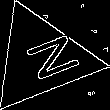N_SW: (8, 30, 75, 87)
